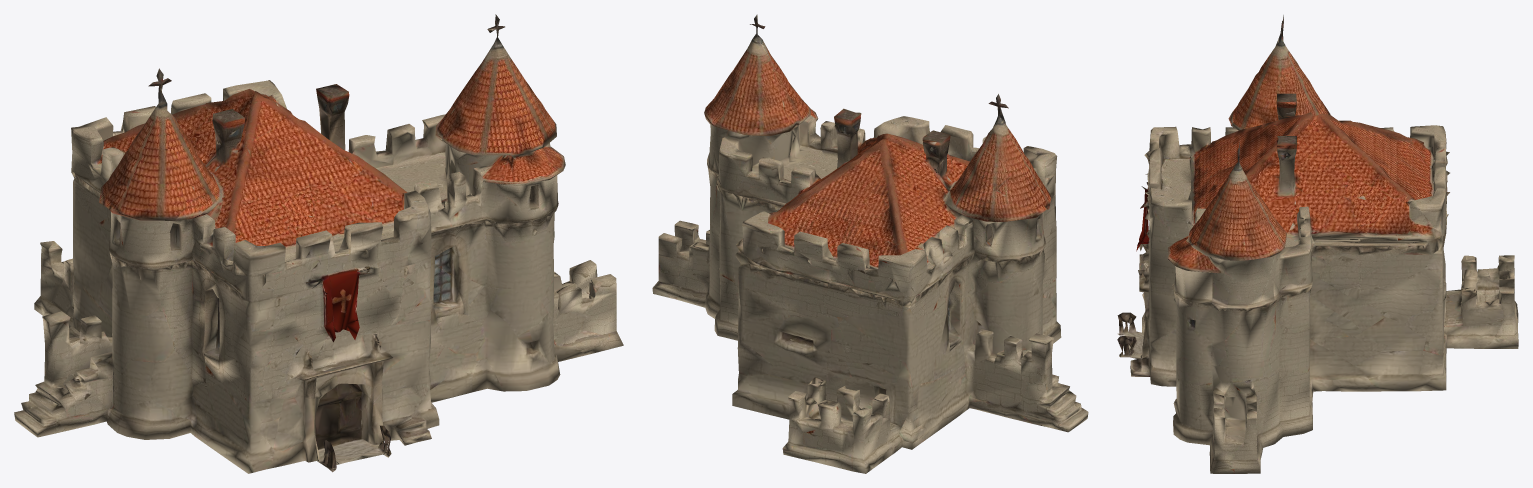
The model's file is burg.glb.
3 views of the same model, side by side, from view 1: azimuth 30°, elevation 25°; view 2: azimuth 150°, elevation 25°; view 3: azimuth 270°, elevation 25° (orthographic). The views are drawn at different scales.
Size of the model in its own units: 1.9 by 1.18 by 1.48.
1 material, 1 textured.
